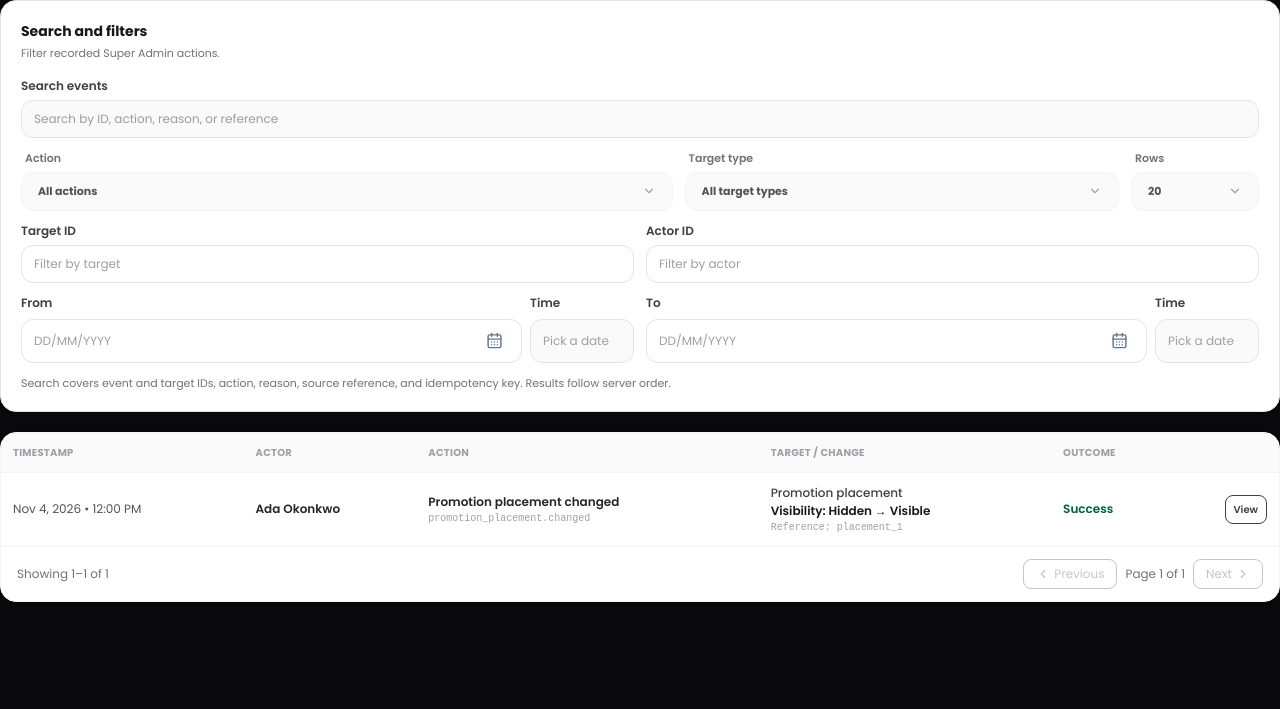
Test: Super Admin audit trail › shows the promotion and product names with a readable visibility change
Expected: the text "Visibility: Hidden → Visible" is shown, [771,502,930,518]
Step 1. Click the button "View" → (1246, 509), box [1224,495,1267,524]
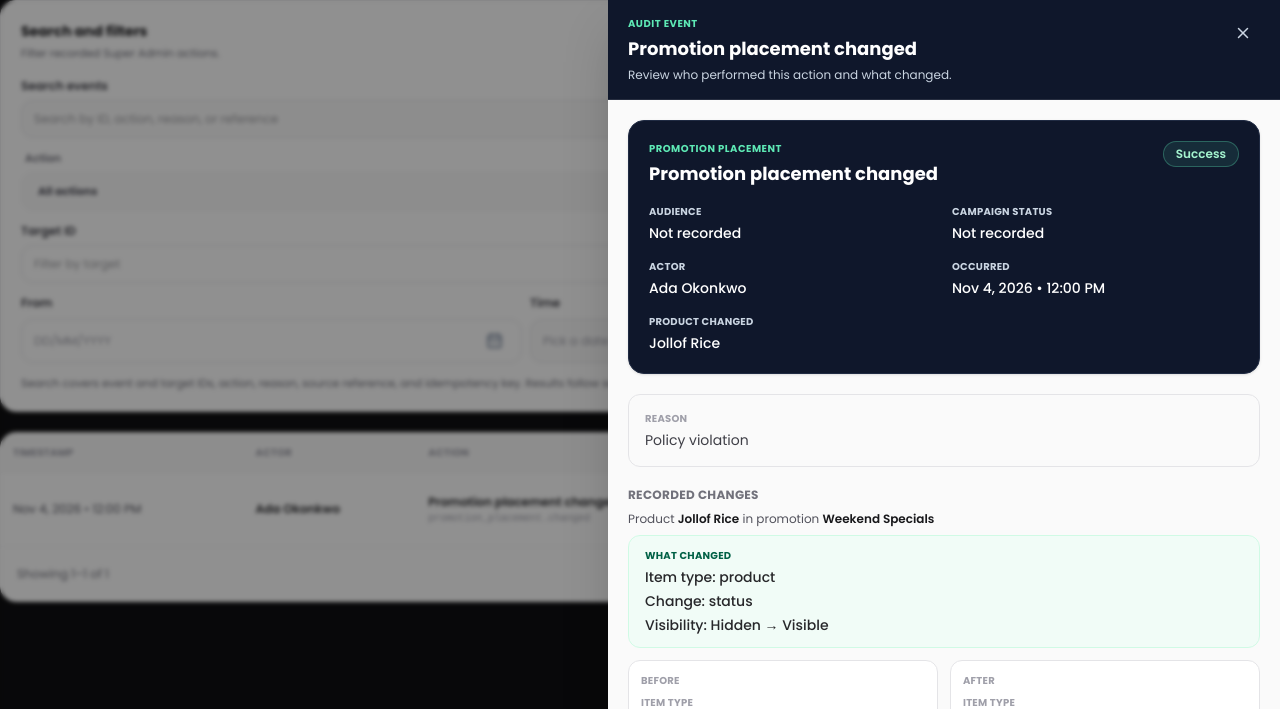
Expected: the text "Weekend Specials" is shown, [822,510,934,527]
Expected: the dialog shows "Jollof Rice", [649,333,720,353]
Expected: the dialog shows "Visibility: Hidden", [645,615,829,635]
